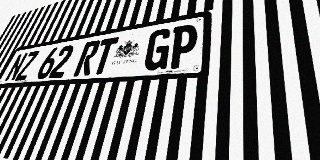2: (48, 44, 75, 78)
6: (35, 47, 62, 79)
G: (142, 27, 173, 71)
N: (4, 52, 29, 82)
P: (167, 23, 199, 69)
R: (73, 40, 101, 76)
T: (90, 37, 119, 75)
Z: (14, 50, 40, 81)
